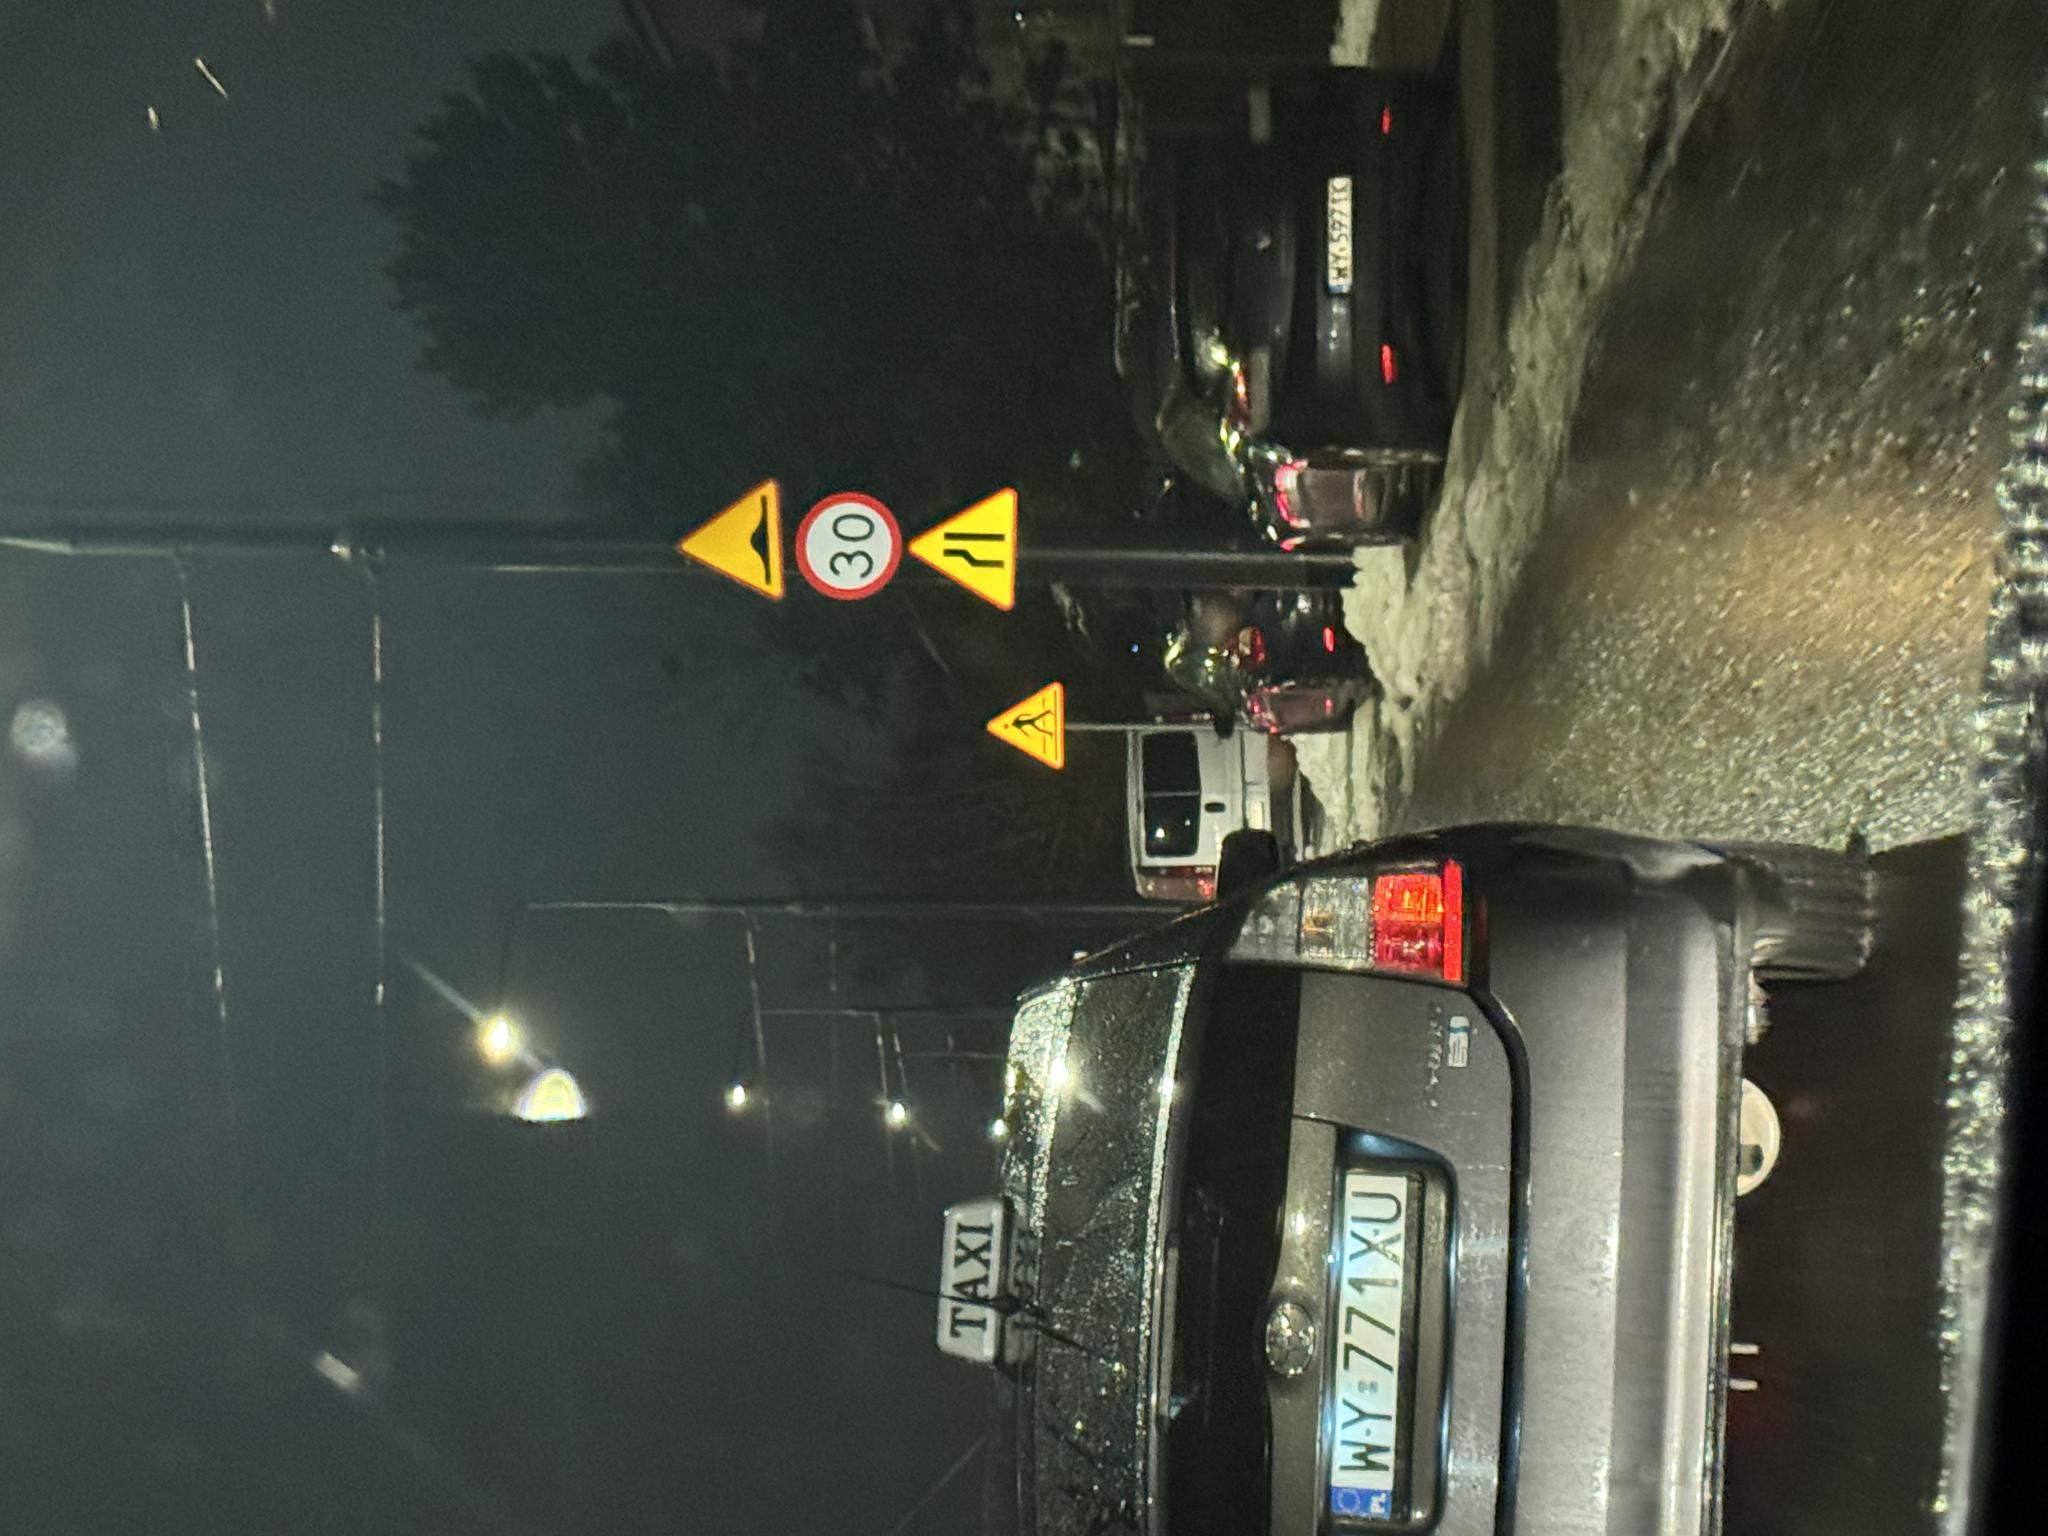prohibitory: (935, 795, 1047, 904)
warning: (926, 907, 1050, 1018), (934, 676, 1058, 786), (764, 987, 853, 1065)
